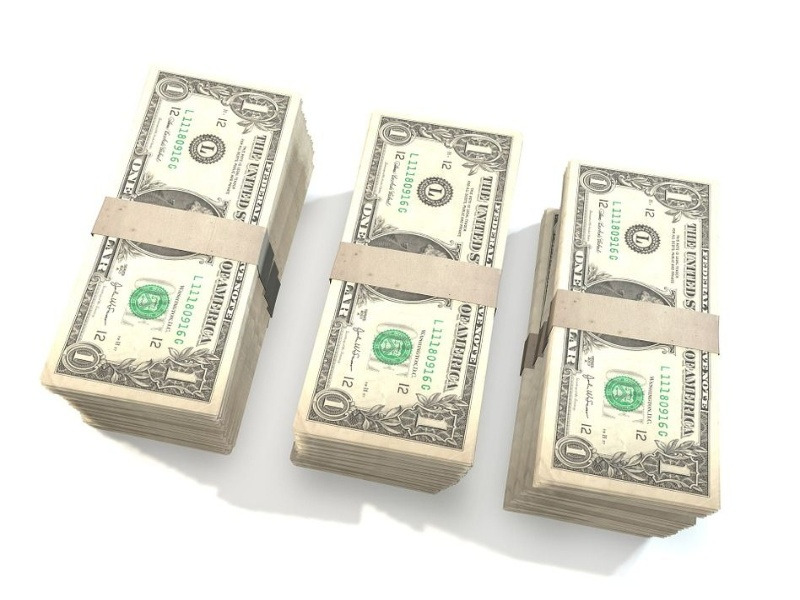cash: (42, 67, 312, 454), (290, 113, 523, 494), (502, 161, 723, 542)
